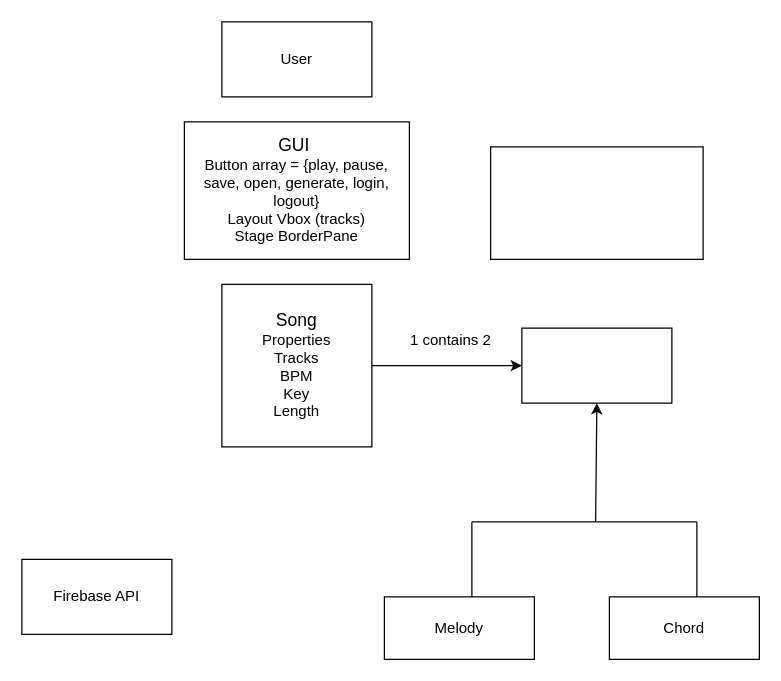
The diagram is 781 pixels wide and 681 high, and some of its shapes have lost their labels. The shapes that lost their labels are listed below. From the top down, each one's centre as x and y in pixels, then its label:
pixel 596 202: MIDI Music Engine MIDI API Sound player Song generator (as tracks)
pixel 596 365: Track Properties
